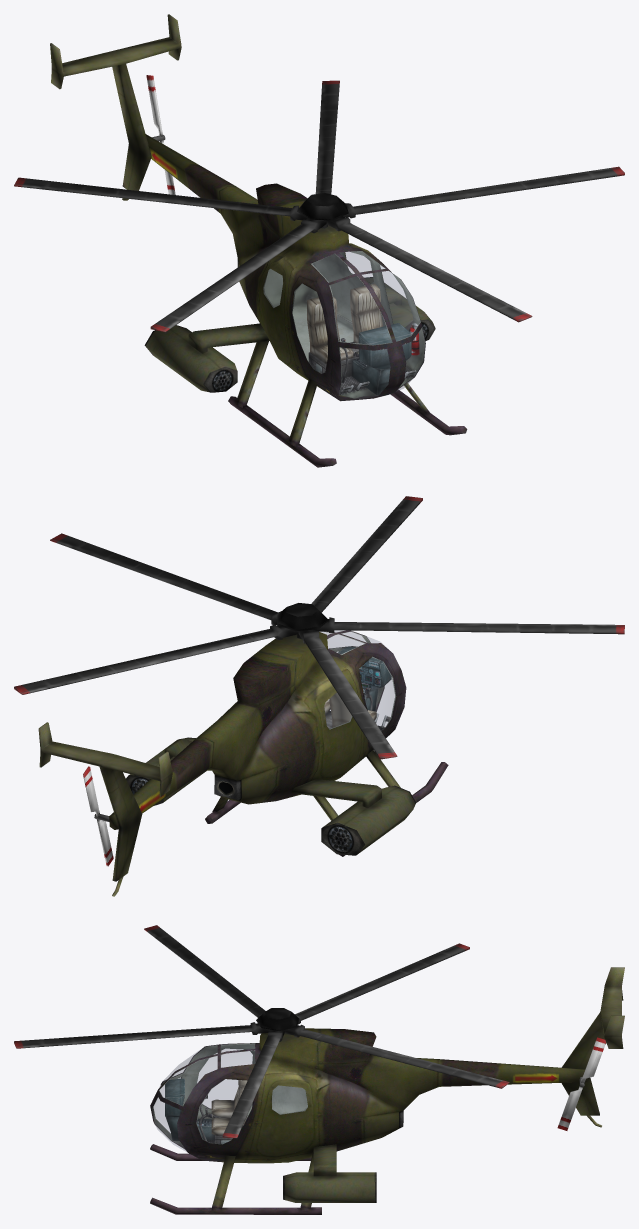
The model's file is heli.obj.
The picture shows the model from 3 angles, top to bottom: view 1: azimuth 30°, elevation 25°; view 2: azimuth 150°, elevation 25°; view 3: azimuth 270°, elevation 25°; orthographic projection. The views are drawn at different scales.
Visible parts, largest first — view 1: MD_501:Helicopter_Mesh.005, MD_501:Top_rotor_Mesh.006, MD_501:Glass_Mesh.009, MD_501:Cockpit_Mesh.008, MD_501:Tail_Rotor_Mesh.007; view 2: MD_501:Helicopter_Mesh.005, MD_501:Top_rotor_Mesh.006, MD_501:Glass_Mesh.009, MD_501:Cockpit_Mesh.008, MD_501:Tail_Rotor_Mesh.007; view 3: MD_501:Helicopter_Mesh.005, MD_501:Top_rotor_Mesh.006, MD_501:Glass_Mesh.009, MD_501:Cockpit_Mesh.008, MD_501:Tail_Rotor_Mesh.007.
Part boxes in pixels (bbox=[...]): MD_501:Helicopter_Mesh.005: bbox=[50, 14, 467, 467]; MD_501:Top_rotor_Mesh.006: bbox=[14, 80, 624, 332]; MD_501:Glass_Mesh.009: bbox=[264, 251, 425, 398]; MD_501:Cockpit_Mesh.008: bbox=[263, 251, 425, 398]; MD_501:Tail_Rotor_Mesh.007: bbox=[146, 75, 175, 194]; MD_501:Helicopter_Mesh.005: bbox=[38, 630, 448, 896]; MD_501:Top_rotor_Mesh.006: bbox=[14, 496, 624, 759]; MD_501:Glass_Mesh.009: bbox=[321, 630, 395, 730]; MD_501:Cockpit_Mesh.008: bbox=[324, 631, 396, 730]; MD_501:Tail_Rotor_Mesh.007: bbox=[83, 766, 113, 866]; MD_501:Helicopter_Mesh.005: bbox=[150, 967, 624, 1214]; MD_501:Top_rotor_Mesh.006: bbox=[14, 925, 509, 1138]; MD_501:Glass_Mesh.009: bbox=[152, 1043, 307, 1151]; MD_501:Cockpit_Mesh.008: bbox=[152, 1043, 307, 1146]; MD_501:Tail_Rotor_Mesh.007: bbox=[557, 1037, 606, 1130].
Bounding box in the file's own units: 11.58 × 4.91 × 14.12.
